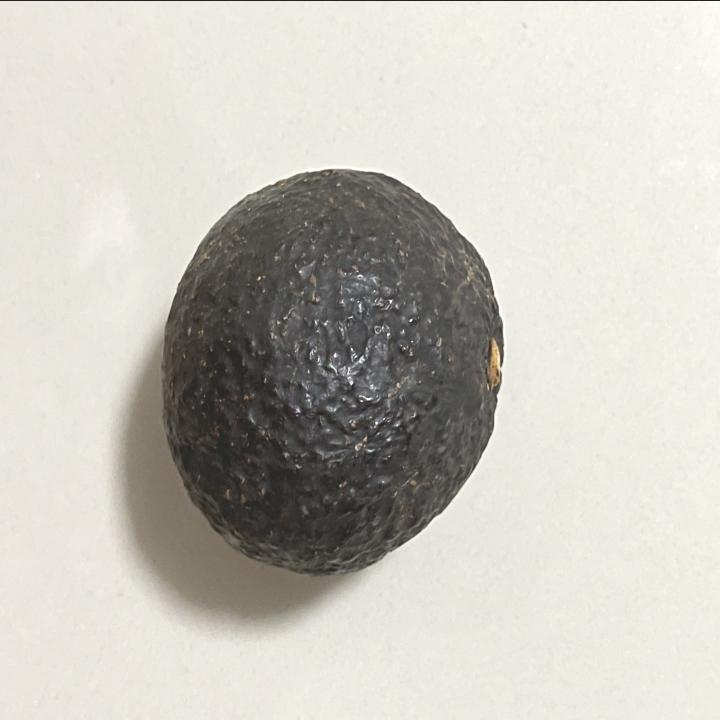Level3: (155, 154, 513, 582)
